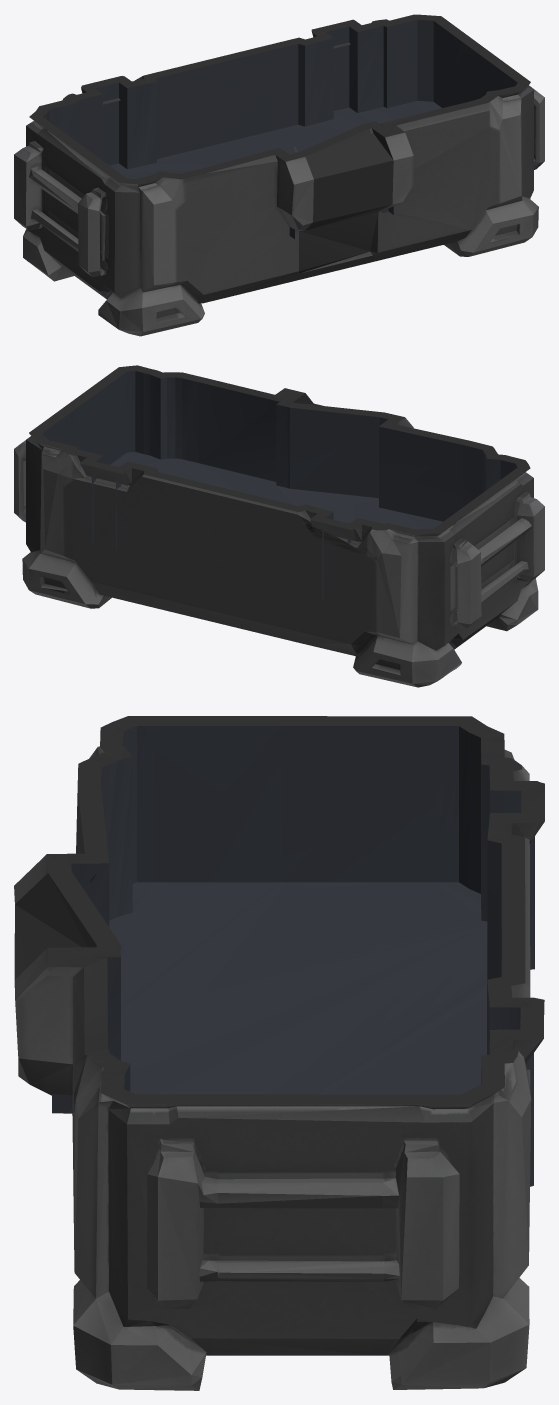
File: chest_body.fbx
3 views of the same model, one above another, from view 1: azimuth 30°, elevation 25°; view 2: azimuth 150°, elevation 25°; view 3: azimuth 270°, elevation 25° (orthographic). The views are drawn at different scales.
Parts seen in each view (by area): view 1: SM_Chest_Body; view 2: SM_Chest_Body; view 3: SM_Chest_Body.
Boxes of the visible parts, x1,y1,x2,y2 form: SM_Chest_Body: [14, 14, 544, 336]; SM_Chest_Body: [14, 365, 544, 687]; SM_Chest_Body: [14, 716, 544, 1390].
Bounding box in the file's own units: 130 × 41.25 × 67.77.
2 materials, 1 textured.
